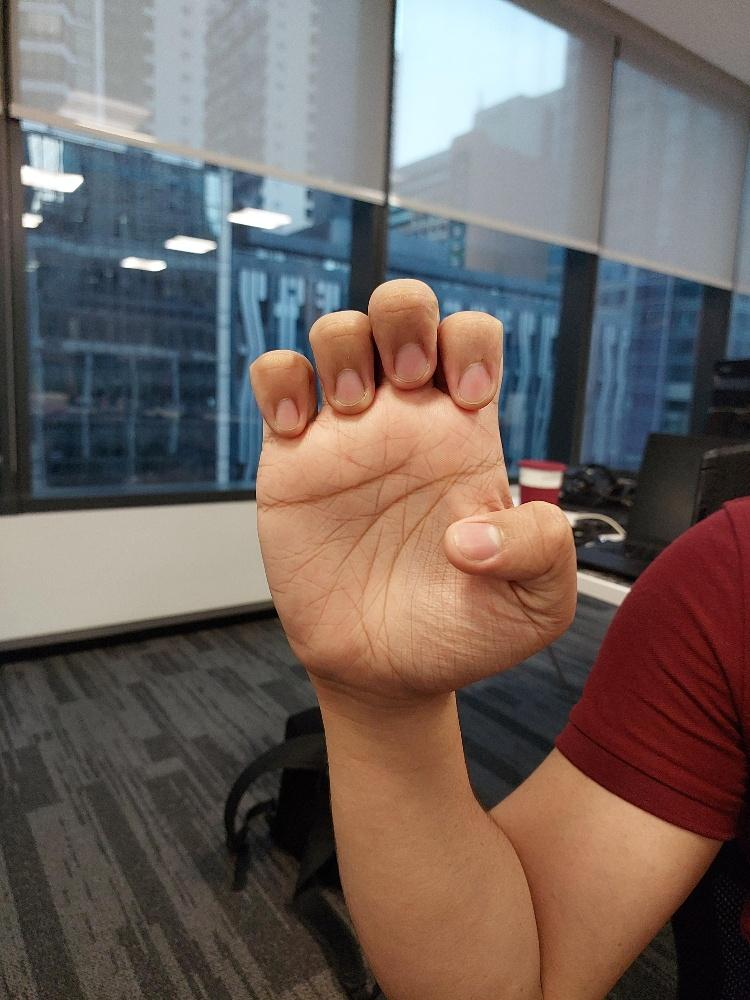e: (254, 274, 583, 711)
